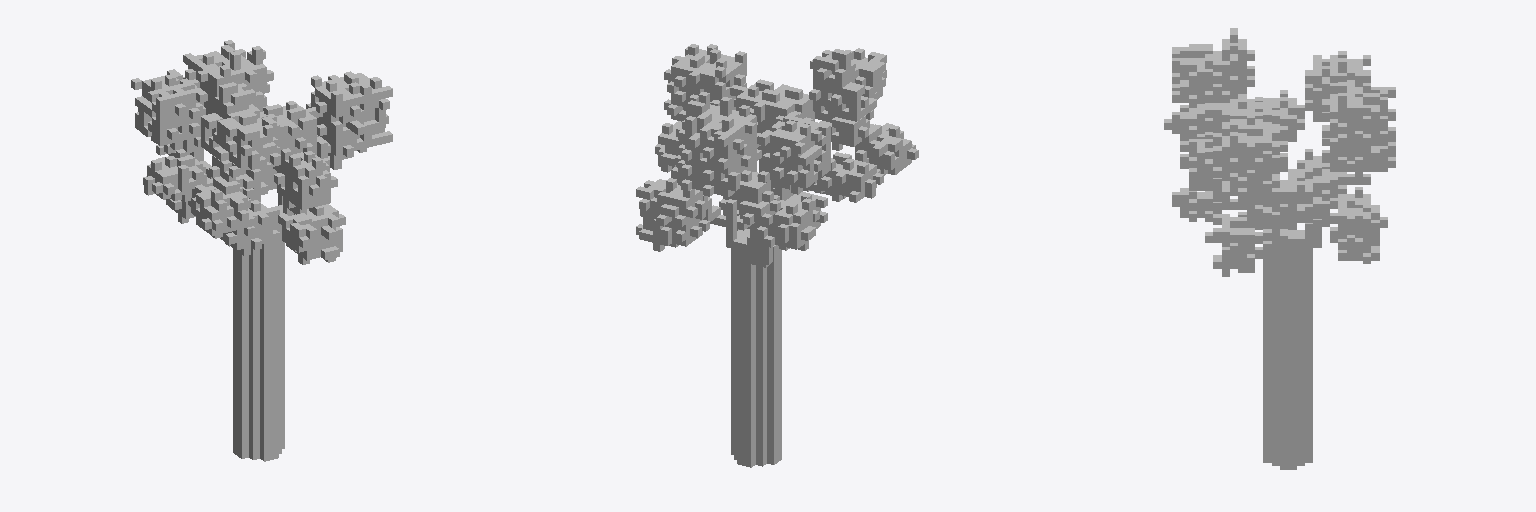
The model's file is tree2.obj.
3 renders of one model, left to right at view 1: azimuth 30°, elevation 25°; view 2: azimuth 150°, elevation 25°; view 3: azimuth 270°, elevation 25°, orthographic.
Parts seen in each view (by area): view 1: object 1; view 2: object 1; view 3: object 1.
Part boxes in pixels (bbox=[...]): object 1: bbox=[131, 40, 392, 461]; object 1: bbox=[636, 44, 918, 467]; object 1: bbox=[1164, 28, 1395, 469].
Size of the model in its own units: 3 by 5.3 by 2.8.